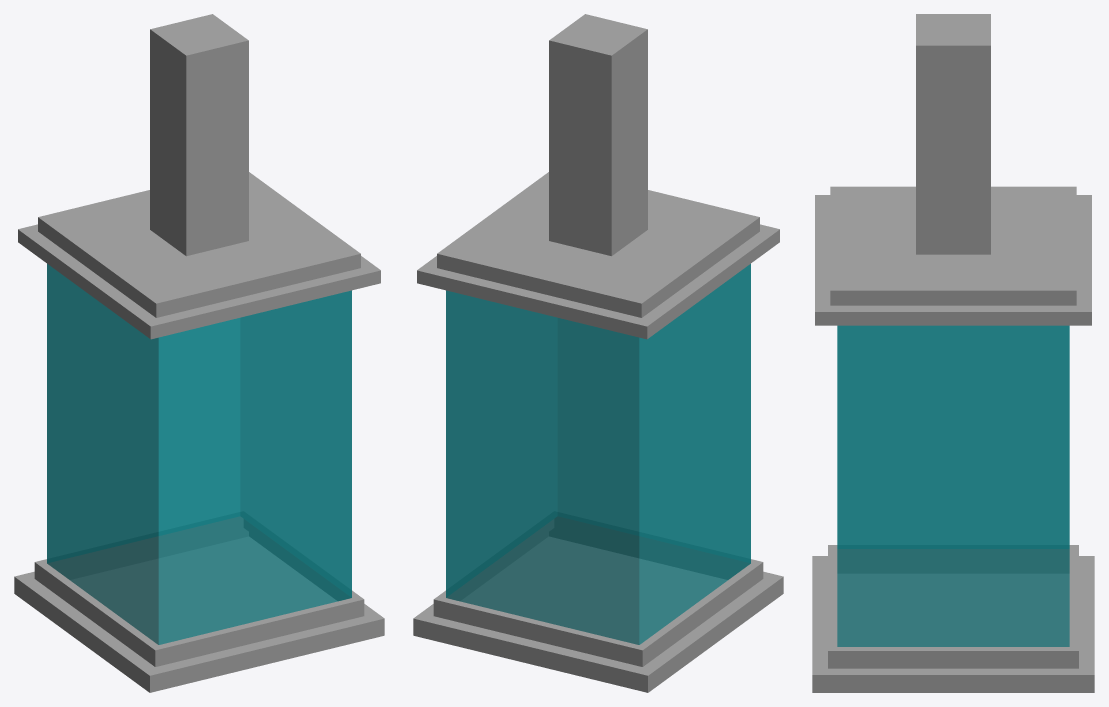
The model's file is capsule standing.fbx.
The picture shows the model from 3 angles, left to right: view 1: azimuth 30°, elevation 25°; view 2: azimuth 150°, elevation 25°; view 3: azimuth 270°, elevation 25°; orthographic projection. The views are drawn at different scales.
Parts seen in each view (by area): view 1: capsule2; view 2: capsule2; view 3: capsule2.
Boxes of the visible parts, x1,y1,x2,y2 form: capsule2: (14, 14, 384, 692); capsule2: (413, 14, 783, 692); capsule2: (812, 14, 1094, 692).
Bounding box in the file's own units: 10.12 × 23.87 × 10.12.
